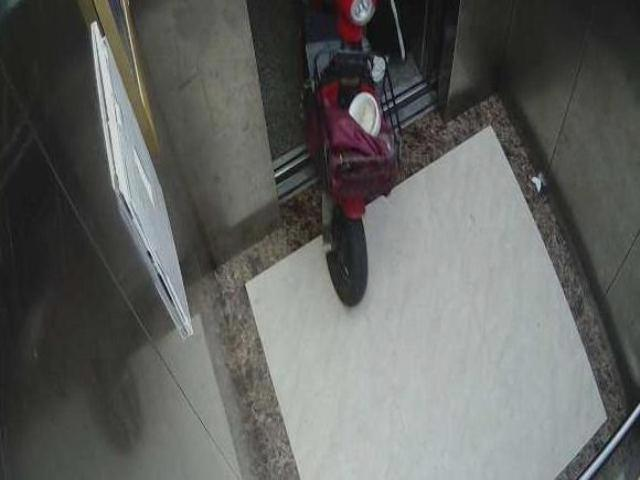emotor: (278, 22, 436, 304)
